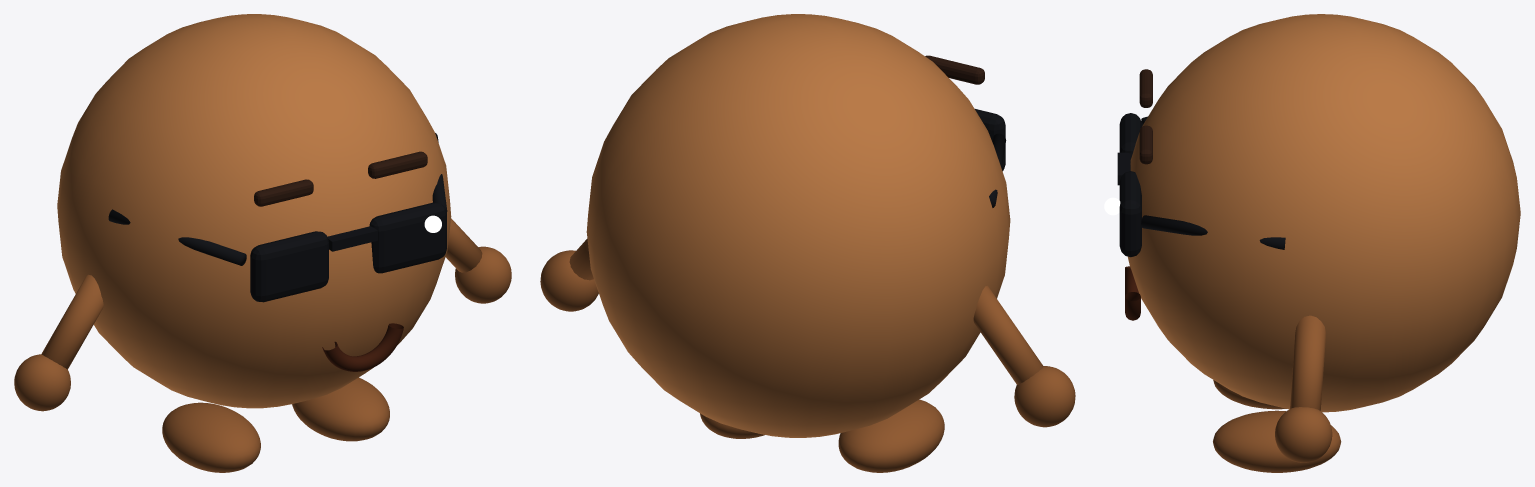
File: molecula_lentes.glb
3 views of the same model, side by side, from view 1: azimuth 30°, elevation 25°; view 2: azimuth 150°, elevation 25°; view 3: azimuth 270°, elevation 25° (orthographic). The views are drawn at different scales.
Visible parts, largest first — view 1: cuerpo, Sphere.001, brazo_i, Cube, Sphere.002, Cube.001, brazo_d, boca, Cylinder, ceja_d, ceja_i, Cube.002; view 2: cuerpo, brazo_i, Sphere.001, brazo_d, ceja_i, Sphere.002, Cube; view 3: cuerpo, brazo_d, Sphere.002, Cube.001, Cylinder.001, Cube, boca, ceja_d, ceja_i, Sphere.001.
Part boxes in pixels (box(x1,y1,x2,y2)): cuerpo: box(57, 14, 451, 408); Sphere.001: box(162, 402, 260, 472); brazo_i: box(14, 274, 103, 411); Cube: box(250, 231, 328, 302); Sphere.002: box(292, 377, 389, 441); Cube.001: box(369, 202, 446, 273); brazo_d: box(445, 218, 511, 303); boca: box(322, 323, 403, 371); Cylinder: box(108, 209, 246, 265); ceja_d: box(368, 151, 427, 178); ceja_i: box(254, 179, 313, 206); Cube.002: box(327, 226, 377, 251); cuerpo: box(586, 14, 1010, 437); brazo_i: box(973, 285, 1075, 427); Sphere.001: box(838, 399, 944, 472); brazo_d: box(540, 239, 598, 311); ceja_i: box(925, 55, 984, 84); Sphere.002: box(700, 413, 764, 438); Cube: box(975, 109, 1005, 171); cuerpo: box(1128, 14, 1520, 412); brazo_d: box(1275, 315, 1332, 462); Sphere.002: box(1213, 410, 1341, 472); Cube.001: box(1119, 171, 1141, 257); Cylinder.001: box(1141, 215, 1285, 249); Cube: box(1119, 113, 1141, 159); boca: box(1125, 266, 1140, 320); ceja_d: box(1139, 125, 1152, 164); ceja_i: box(1139, 69, 1152, 107); Sphere.001: box(1213, 380, 1286, 409).
Bounding box in the file's own units: 1.29 × 1 × 0.94.
